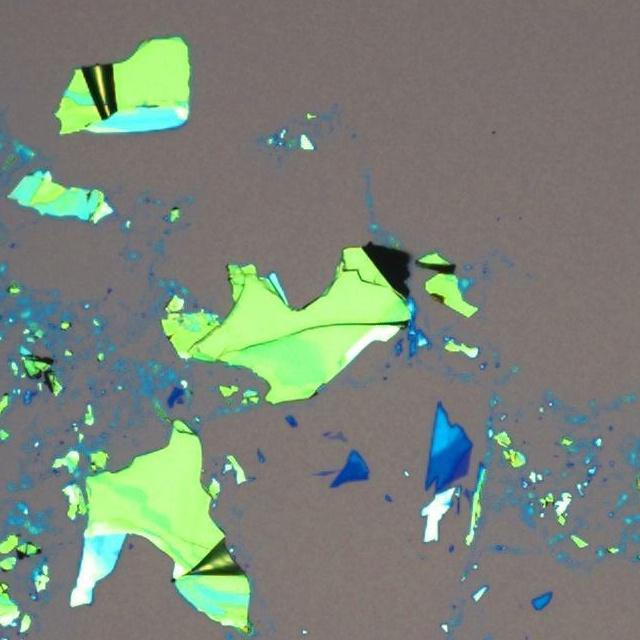monolayer-eWW4: (329, 429, 348, 444)
